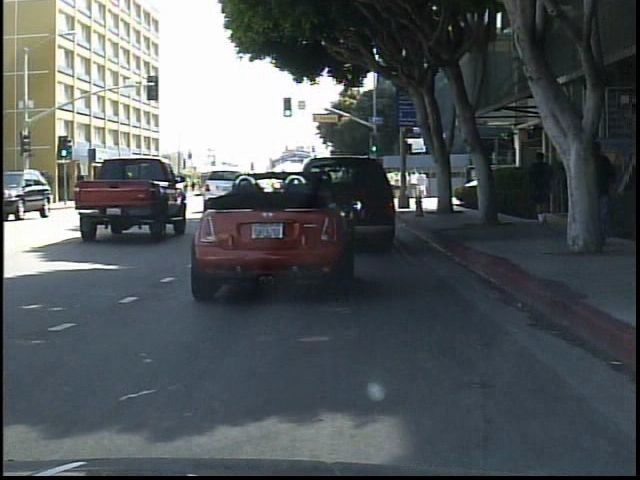person: (578, 136, 623, 255), (524, 149, 560, 230), (147, 172, 165, 201)
